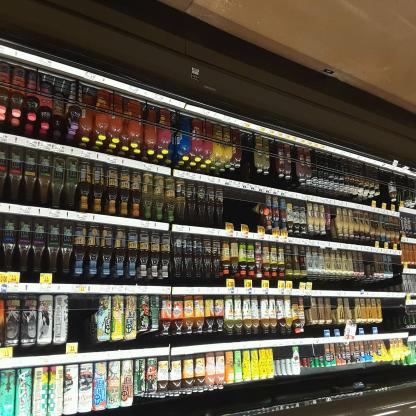empty_space: (81, 294, 95, 340), (68, 295, 80, 339), (385, 300, 402, 323), (380, 173, 388, 202), (364, 254, 373, 263)
